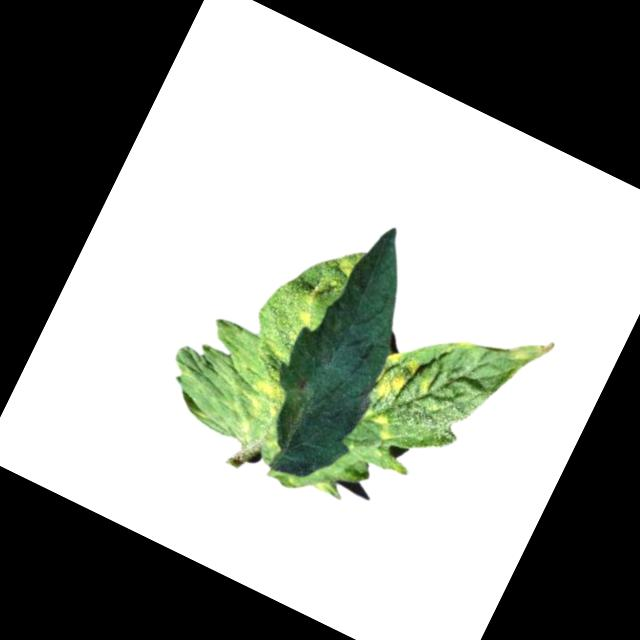Leaf_Mold: (370, 345, 441, 414), (240, 374, 291, 422), (363, 406, 402, 445)
